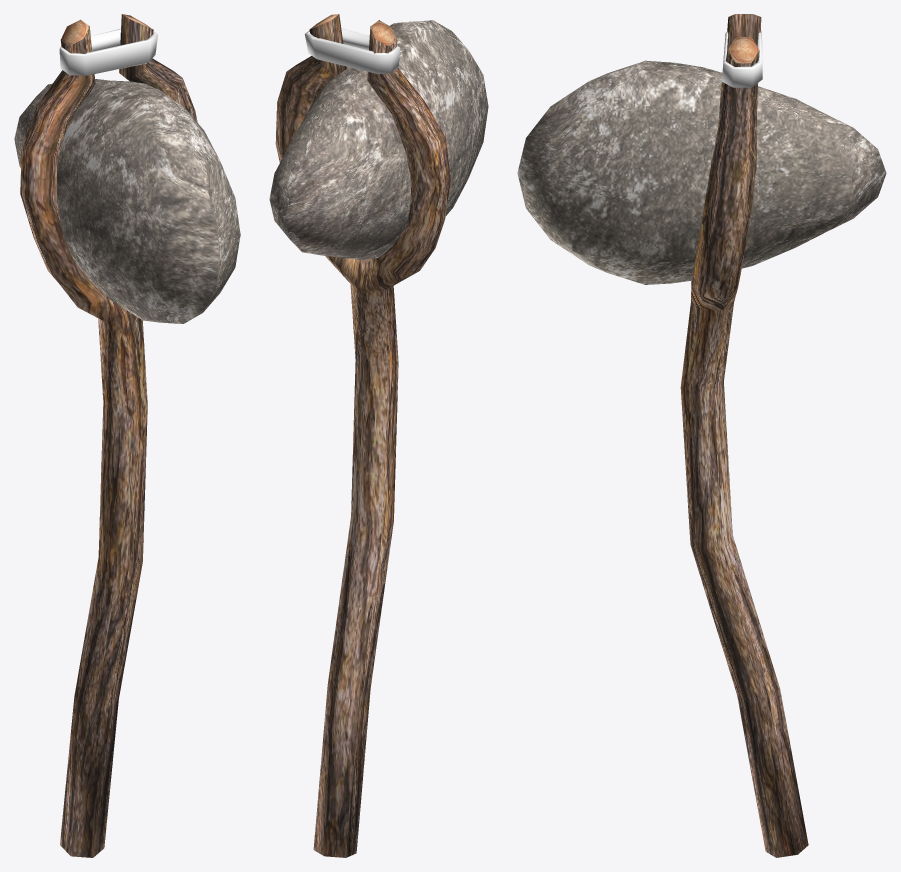
File: StoneAxe.fbx
The picture shows the model from 3 angles, left to right: view 1: azimuth 30°, elevation 25°; view 2: azimuth 150°, elevation 25°; view 3: azimuth 270°, elevation 25°; orthographic projection. The views are drawn at different scales.
Parts seen in each view (by area): view 1: Wood, Stone, Vine; view 2: Wood, Stone, Vine; view 3: Stone, Wood, Vine.
Boxes of the visible parts, bbox=[...] form: Wood: bbox=[20, 14, 197, 857]; Stone: bbox=[14, 79, 240, 323]; Vine: bbox=[59, 29, 157, 75]; Wood: bbox=[275, 14, 450, 857]; Stone: bbox=[269, 20, 488, 259]; Vine: bbox=[304, 28, 400, 74]; Stone: bbox=[517, 60, 886, 284]; Wood: bbox=[680, 14, 808, 857]; Vine: bbox=[721, 31, 762, 87].
Bounding box in the file's own units: 8.94 × 41.93 × 16.93.
Materials: 1 (1 with a texture image).
